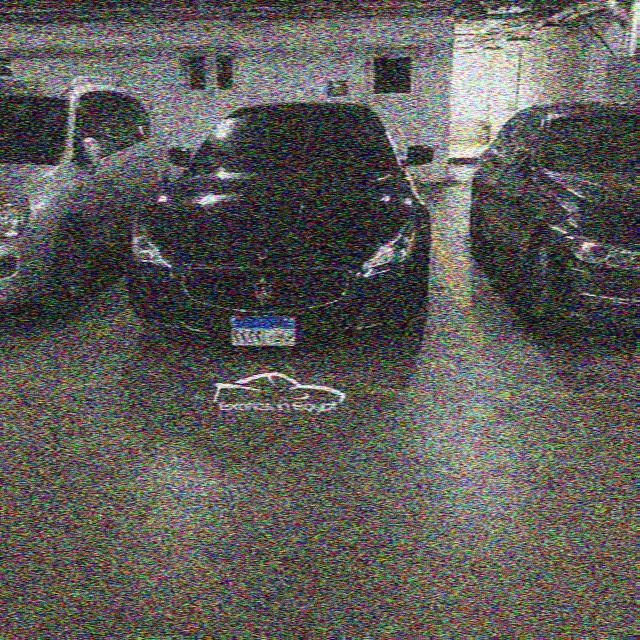License Plate: (230, 316, 299, 350)
